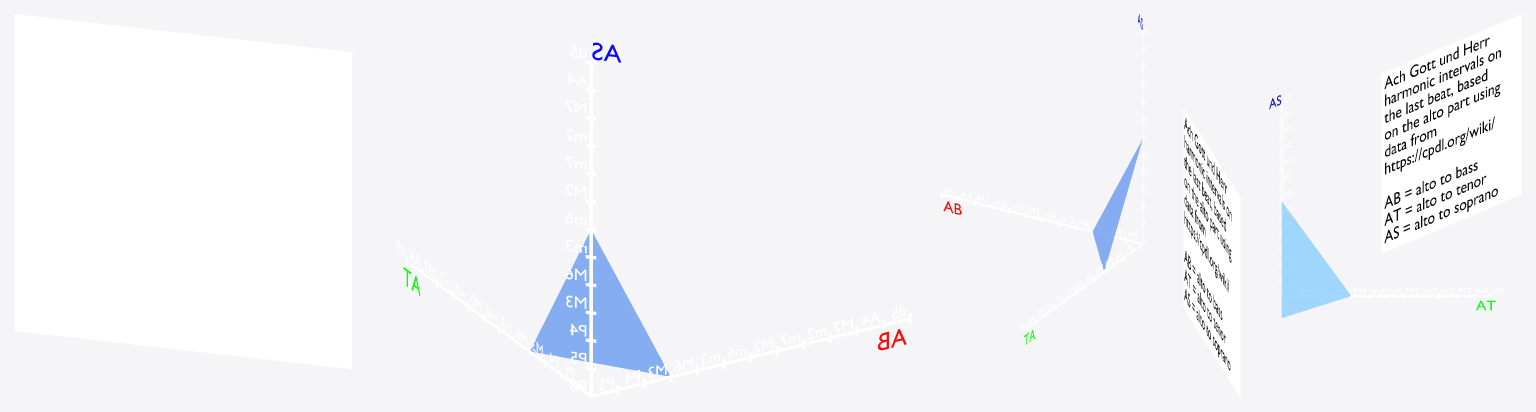
The model's file is altoFinalChart.glb.
The picture shows the model from 3 angles, left to right: view 1: azimuth 30°, elevation 25°; view 2: azimuth 150°, elevation 25°; view 3: azimuth 270°, elevation 25°; orthographic projection. The views are drawn at different scales.
Visible parts, largest first — view 1: textBox, intervals, z_axis, x_axis, y_axis; view 2: textBox, text, intervals, x_axis, z_axis, y_axis; view 3: textBox, text, intervals, y_axis, z_axis.
Part boxes in pixels (x1,y1,x2,y2): textBox: (14, 14, 352, 369); intervals: (530, 233, 669, 375); z_axis: (585, 60, 596, 396); x_axis: (591, 313, 911, 397); y_axis: (406, 256, 590, 397); textBox: (1183, 107, 1240, 397); text: (1184, 118, 1231, 370); intervals: (1092, 139, 1142, 269); x_axis: (940, 191, 1142, 244); z_axis: (1142, 31, 1143, 243); y_axis: (1026, 243, 1142, 332); textBox: (1381, 14, 1521, 253); text: (1384, 37, 1500, 242); intervals: (1281, 201, 1350, 317); y_axis: (1282, 293, 1492, 298); z_axis: (1279, 104, 1283, 295).
Size of the model in its own units: 2.15 by 1.14 by 1.21.
